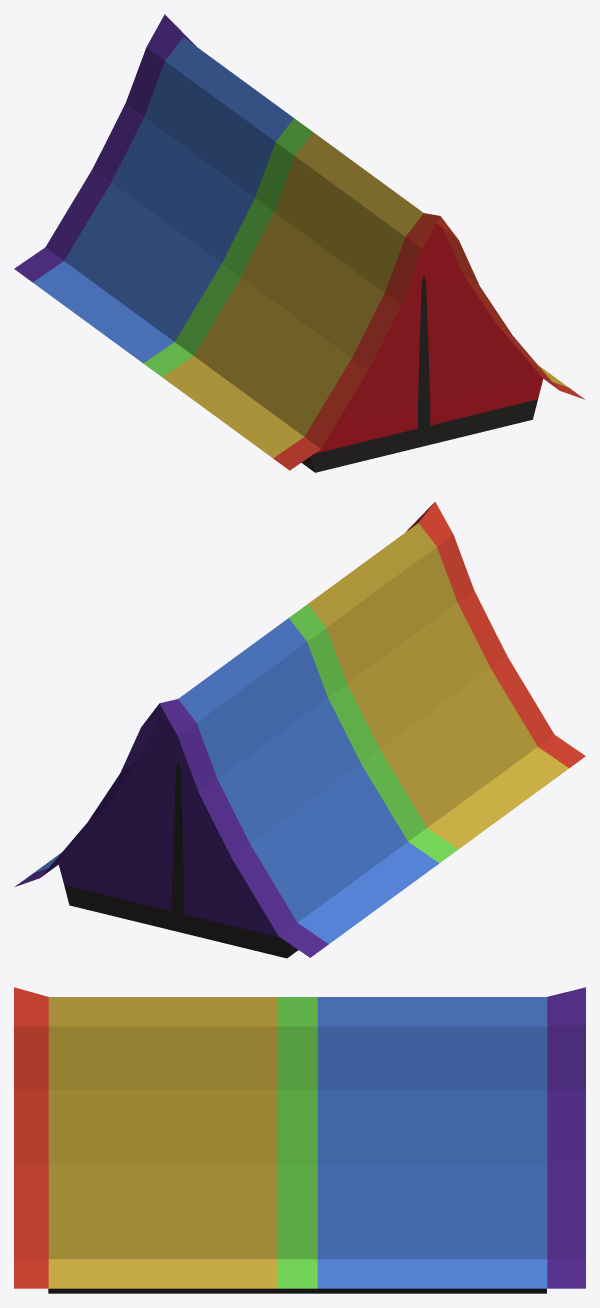
Rendered from Tent_Small_04.fbx.
3 views of the same model, one above another, from view 1: azimuth 30°, elevation 25°; view 2: azimuth 150°, elevation 25°; view 3: azimuth 270°, elevation 25° (orthographic). The views are drawn at different scales.
Parts seen in each view (by area): view 1: Tent_Small_04; view 2: Tent_Small_04; view 3: Tent_Small_04.
Boxes of the visible parts, x1,y1,x2,y2 form: Tent_Small_04: (14,14,585,472); Tent_Small_04: (15,501,585,958); Tent_Small_04: (14,987,585,1293).
Size of the model in its own units: 1.87 by 1.46 by 3.02.
